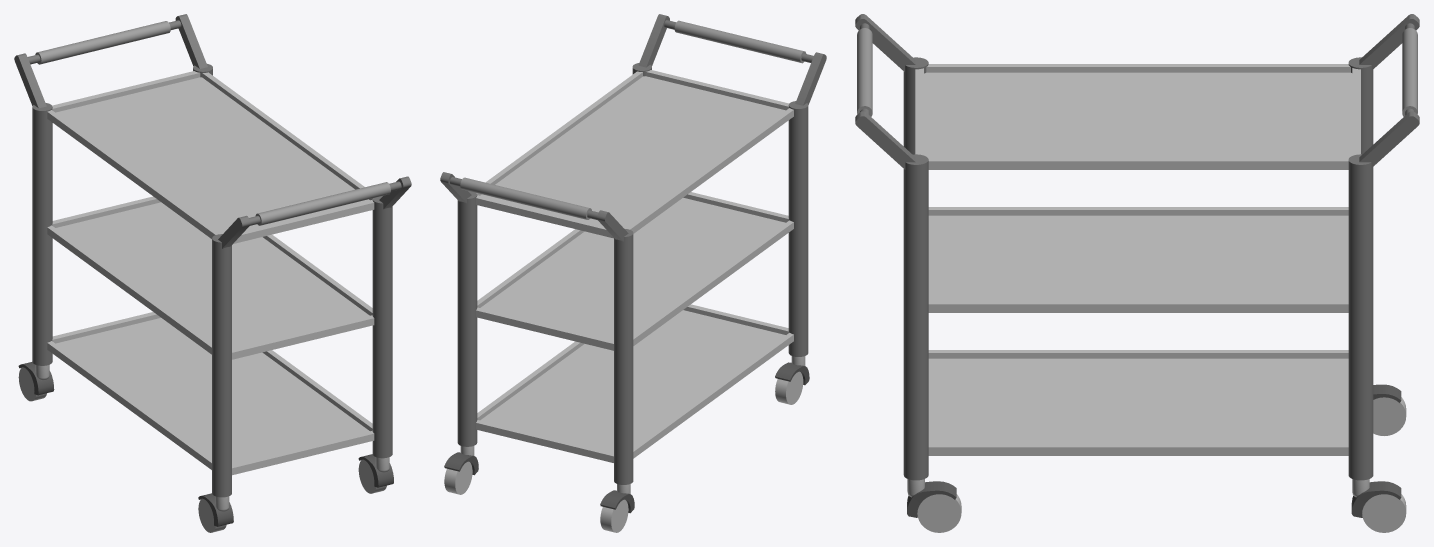
File: monycart.fbx
3 views of the same model, side by side, from view 1: azimuth 30°, elevation 25°; view 2: azimuth 150°, elevation 25°; view 3: azimuth 270°, elevation 25° (orthographic). The views are drawn at different scales.
Visible parts, largest first — view 1: Cube; view 2: Cube; view 3: Cube.
Part boxes in pixels (left/top/right/bottom): Cube: left=14, top=14, right=411, bottom=532; Cube: left=440, top=14, right=826, bottom=532; Cube: left=855, top=14, right=1419, bottom=532.
Bounding box in the file's own units: 114 × 206 × 253.
